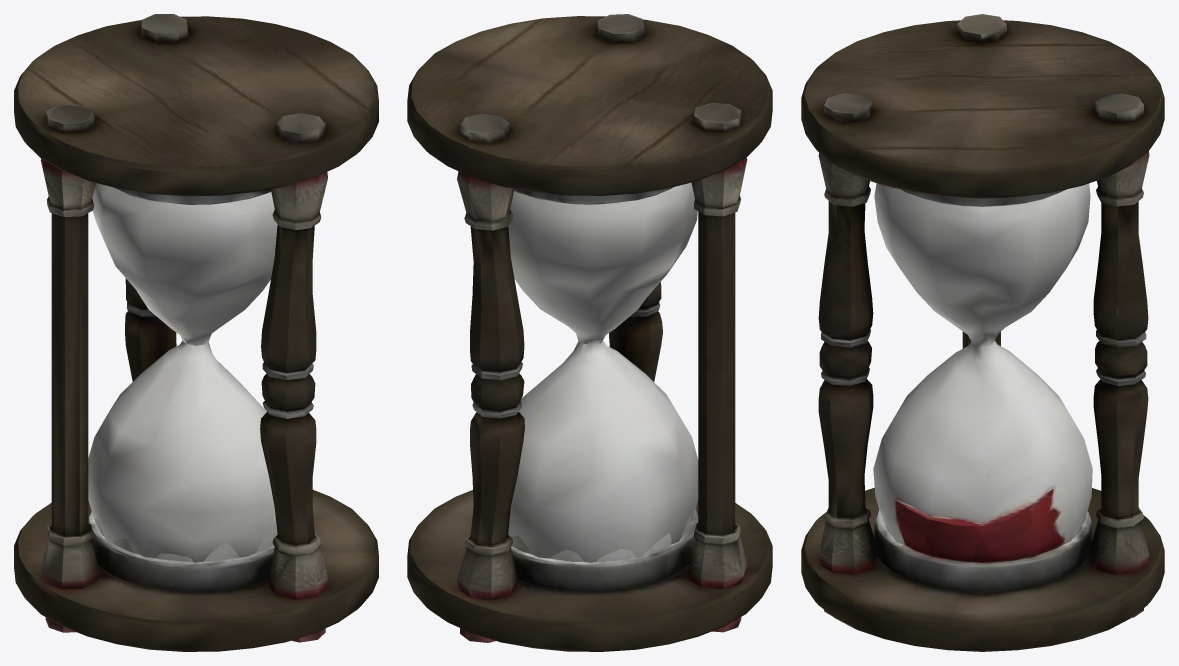
Rendered from obj_hourglass.glb.
3 renders of one model, left to right at view 1: azimuth 30°, elevation 25°; view 2: azimuth 150°, elevation 25°; view 3: azimuth 270°, elevation 25°, orthographic.
Parts seen in each view (by area): view 1: model; view 2: model; view 3: model.
Boxes of the visible parts, bbox=[...] form: model: bbox=[14, 14, 378, 651]; model: bbox=[407, 14, 772, 651]; model: bbox=[801, 14, 1164, 651].
Size of the model in its own units: 0.6517 by 1 by 0.6517.
1 material, 1 textured.
